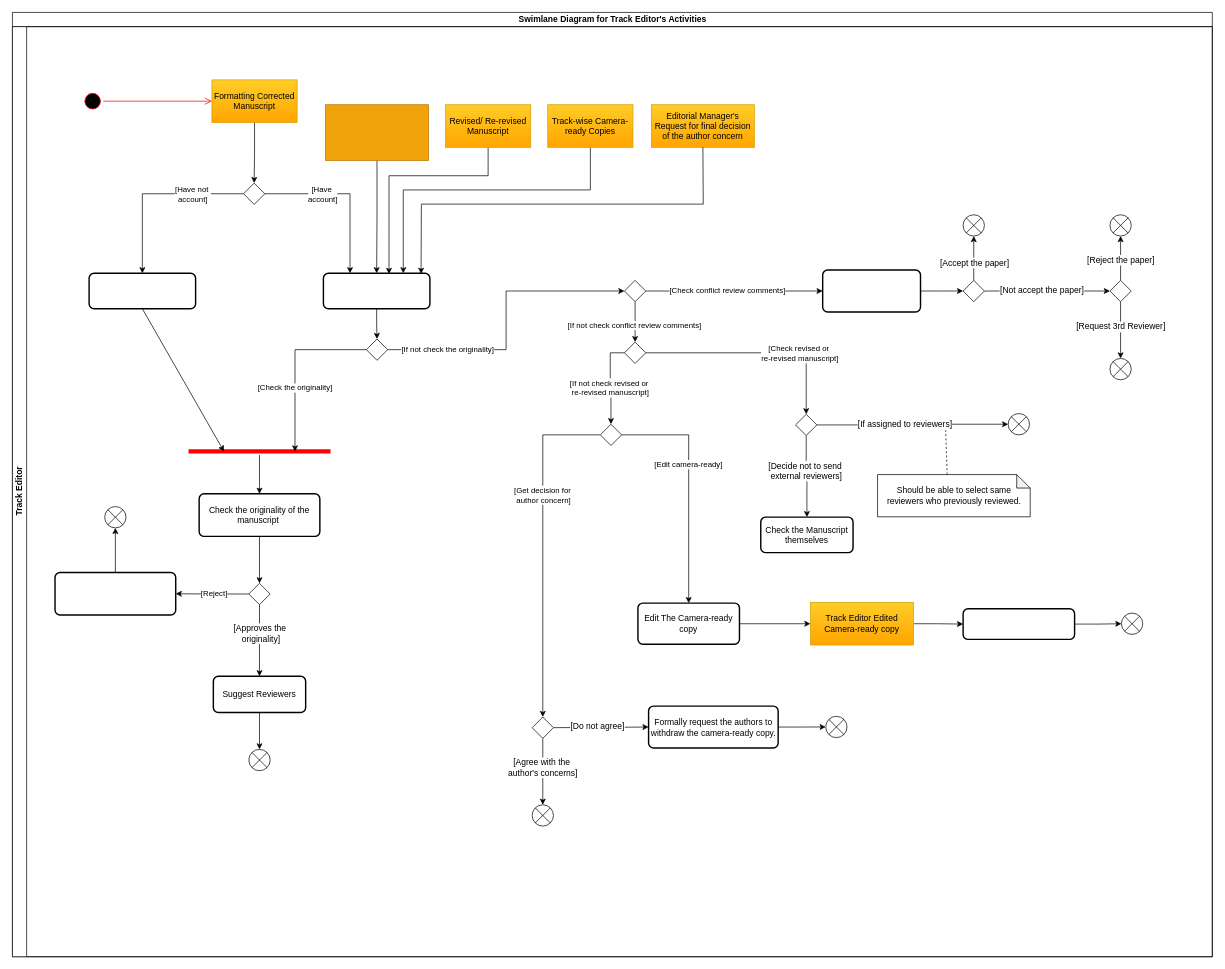
Image size: 1225x969. Some labels were removed from this diagram. Each missing label, with the centre of its shape:
Create reviewer account: (x=142, y=290)
Login via using the Credentials: (x=376, y=290)
Review the conflicting comments: (x=871, y=290)
Reviewed Manuscript and Review comments file: (x=376, y=132)
Update the Manuscript status to "Rejected": (x=115, y=593)
Upload the edited camera-ready copy: (x=1018, y=624)
